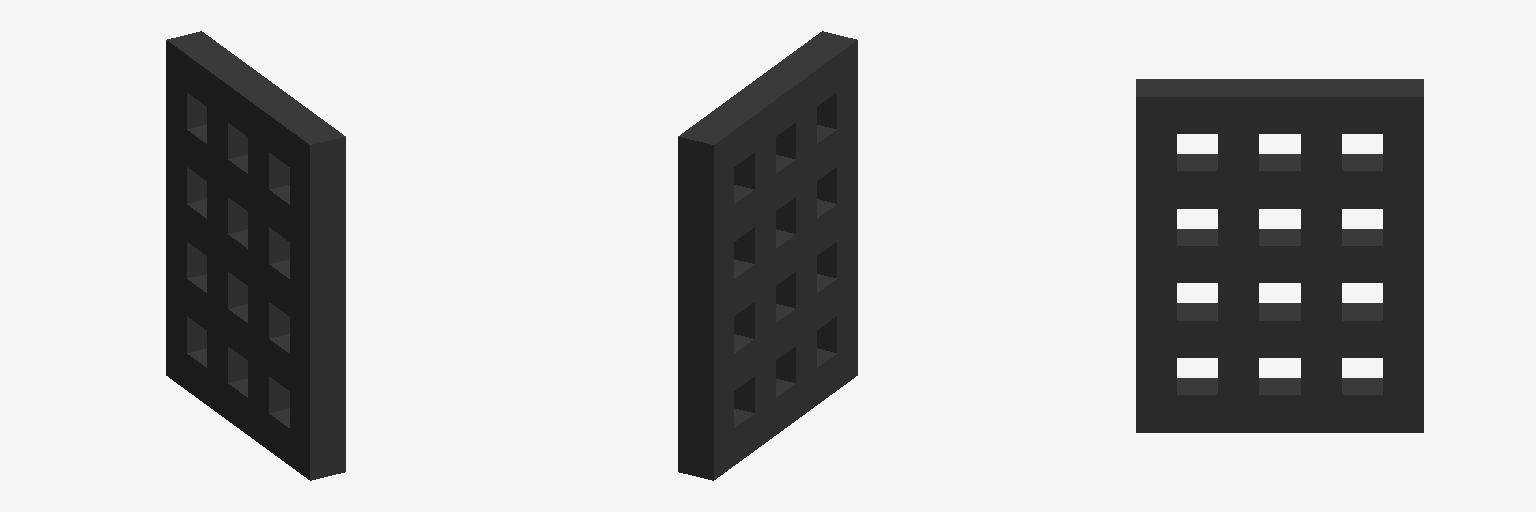
The picture shows the model from 3 angles: view 1: azimuth 30°, elevation 25°; view 2: azimuth 150°, elevation 25°; view 3: azimuth 270°, elevation 25°; orthographic projection.
Parts seen in each view (by area): view 1: iron_door.Merged_Plane-tex; view 2: iron_door.Merged_Plane-tex; view 3: iron_door.Merged_Plane-tex.
Boxes of the visible parts, <box> form: iron_door.Merged_Plane-tex: <box>166,31,345,480</box>; iron_door.Merged_Plane-tex: <box>678,31,857,480</box>; iron_door.Merged_Plane-tex: <box>1136,79,1423,432</box>.
Size of the model in its own units: 2 by 18 by 14.
Materials: 1 (1 with a texture image).